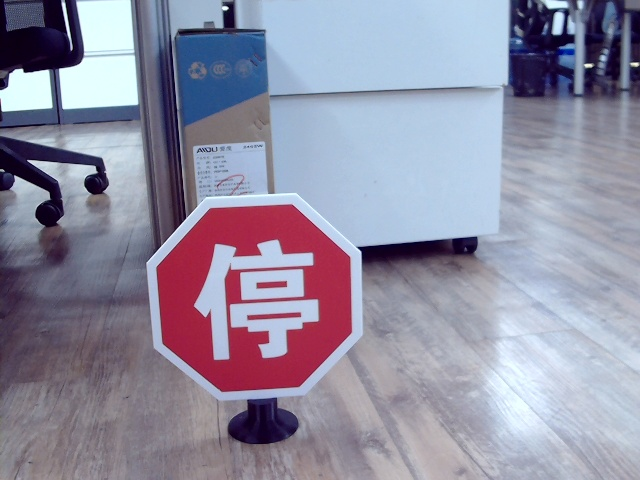stop: (190, 237, 322, 360)
